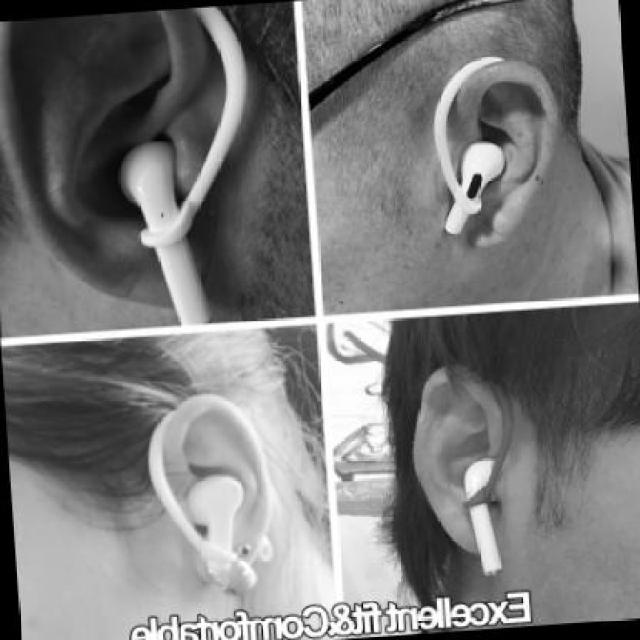earphone: (99, 86, 234, 320), (417, 429, 525, 592), (432, 113, 538, 258), (180, 461, 270, 624)
